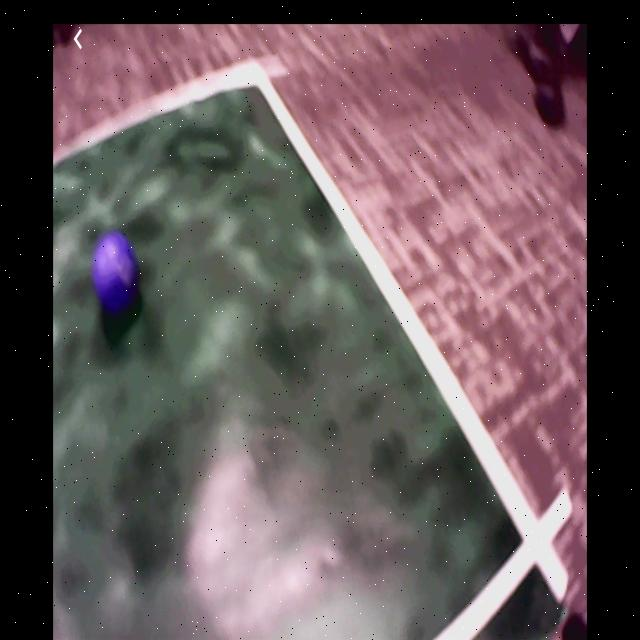ball: (94, 234, 138, 305)
